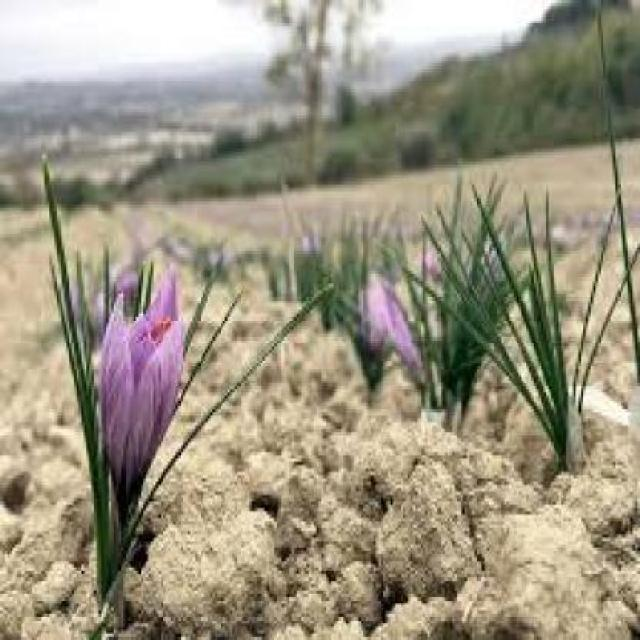Flower: (90, 293, 184, 530)
